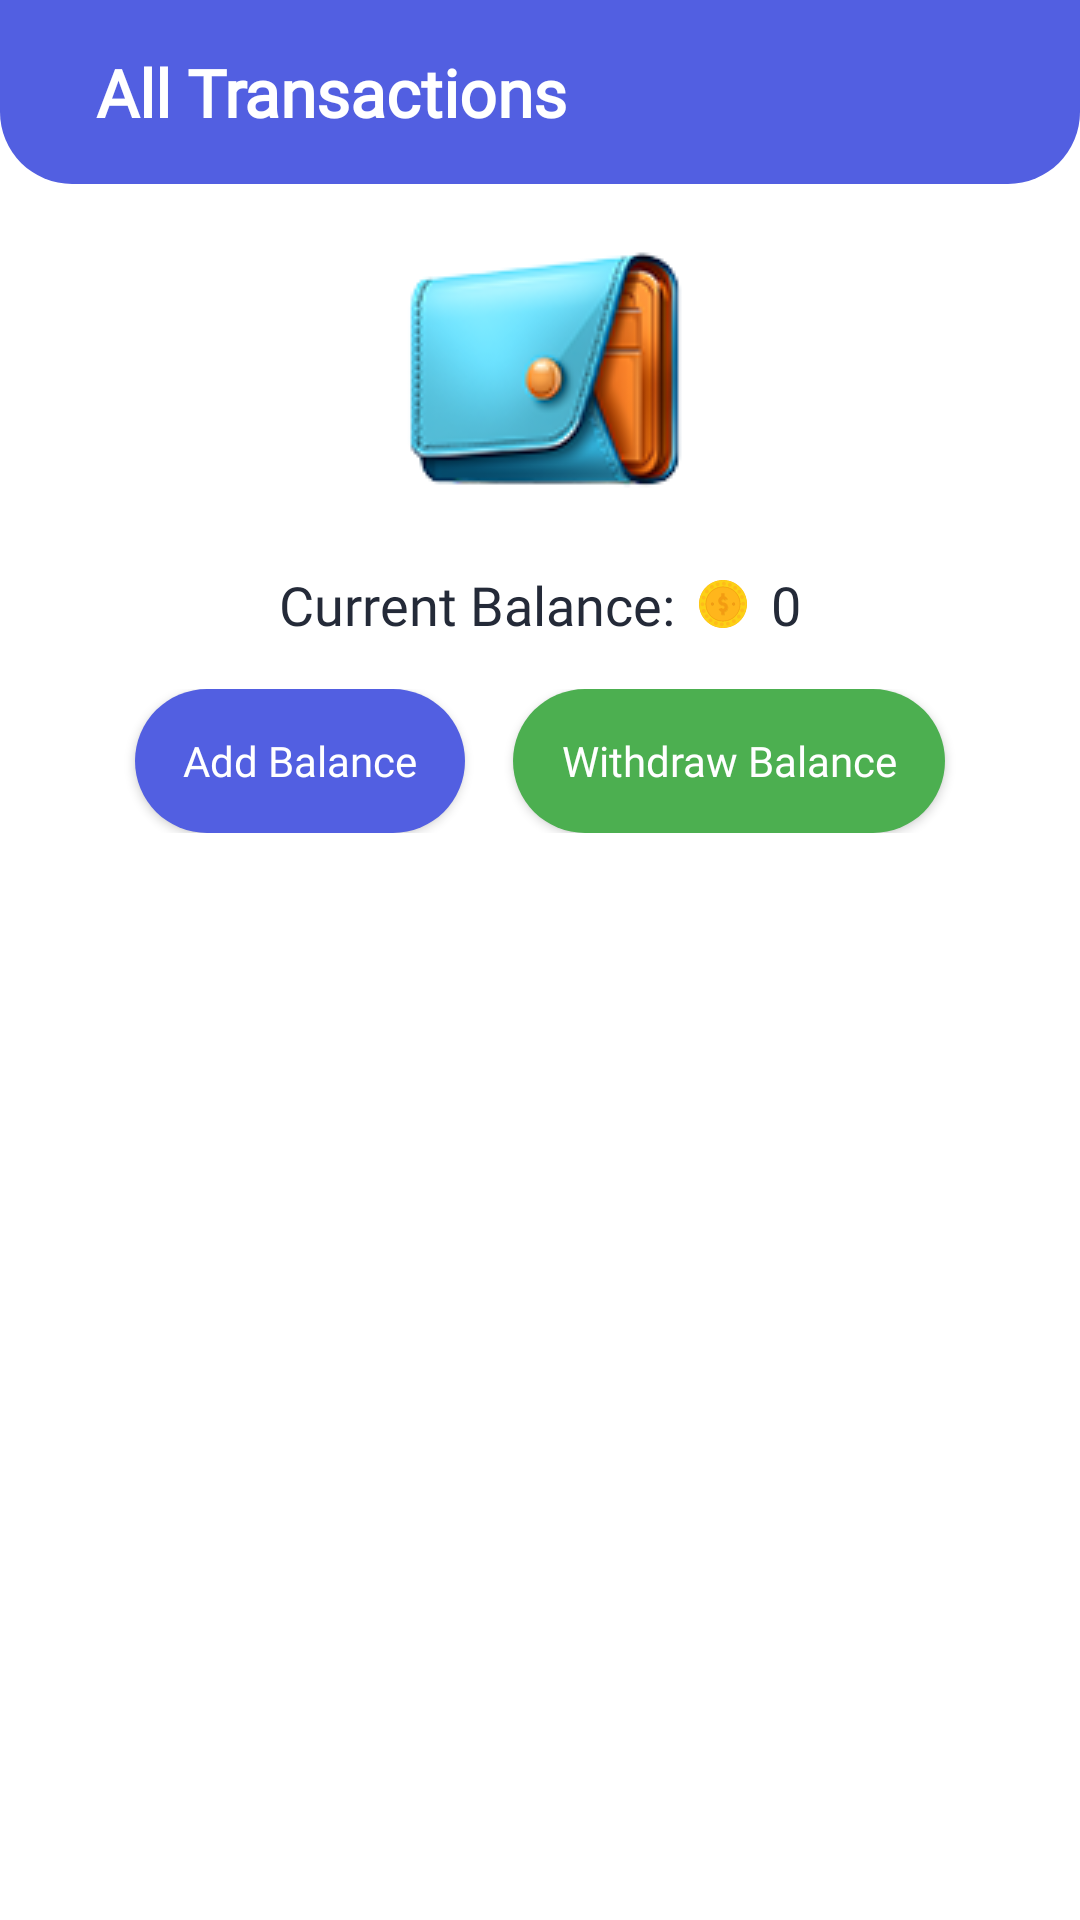

Icons on this 1080px×1920px Android screen, each with its box as (x1, y1, x2, y2):
wallet: (410, 252, 680, 485)
